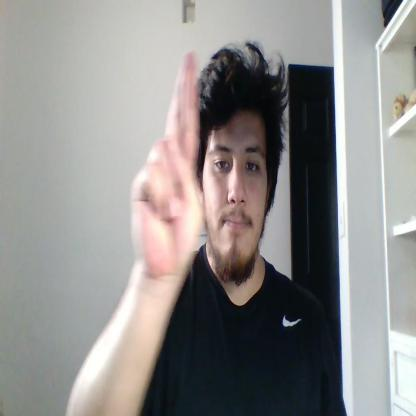R: (131, 50, 203, 278)
